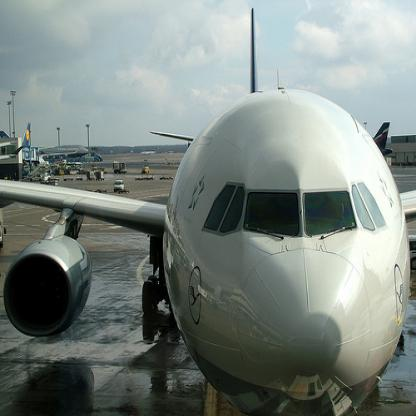aeroplane: (1, 5, 416, 416), (34, 142, 91, 163)
